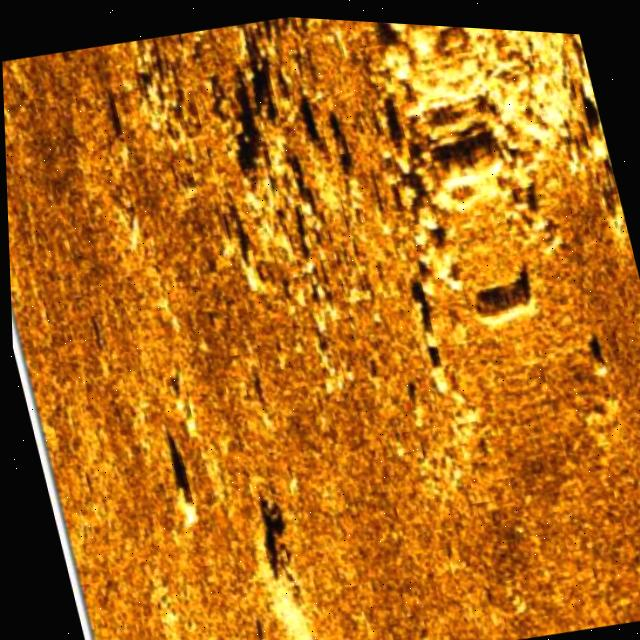bedrock group: (340, 16, 640, 340)
